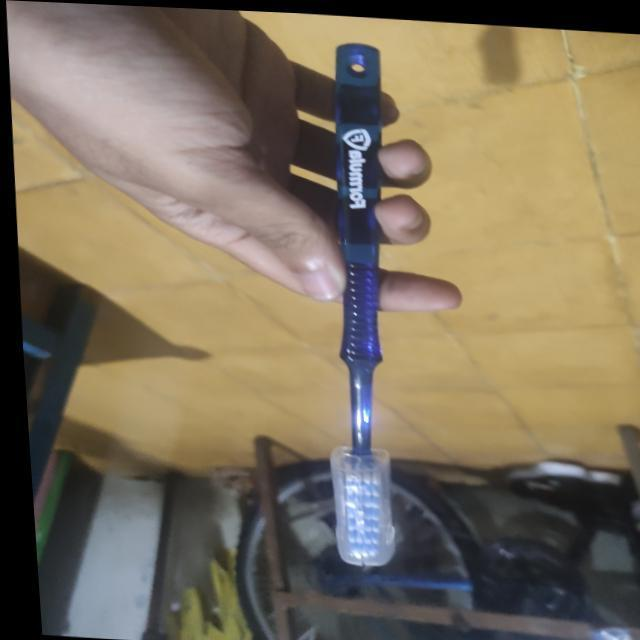toothbrush: (277, 24, 443, 580)
